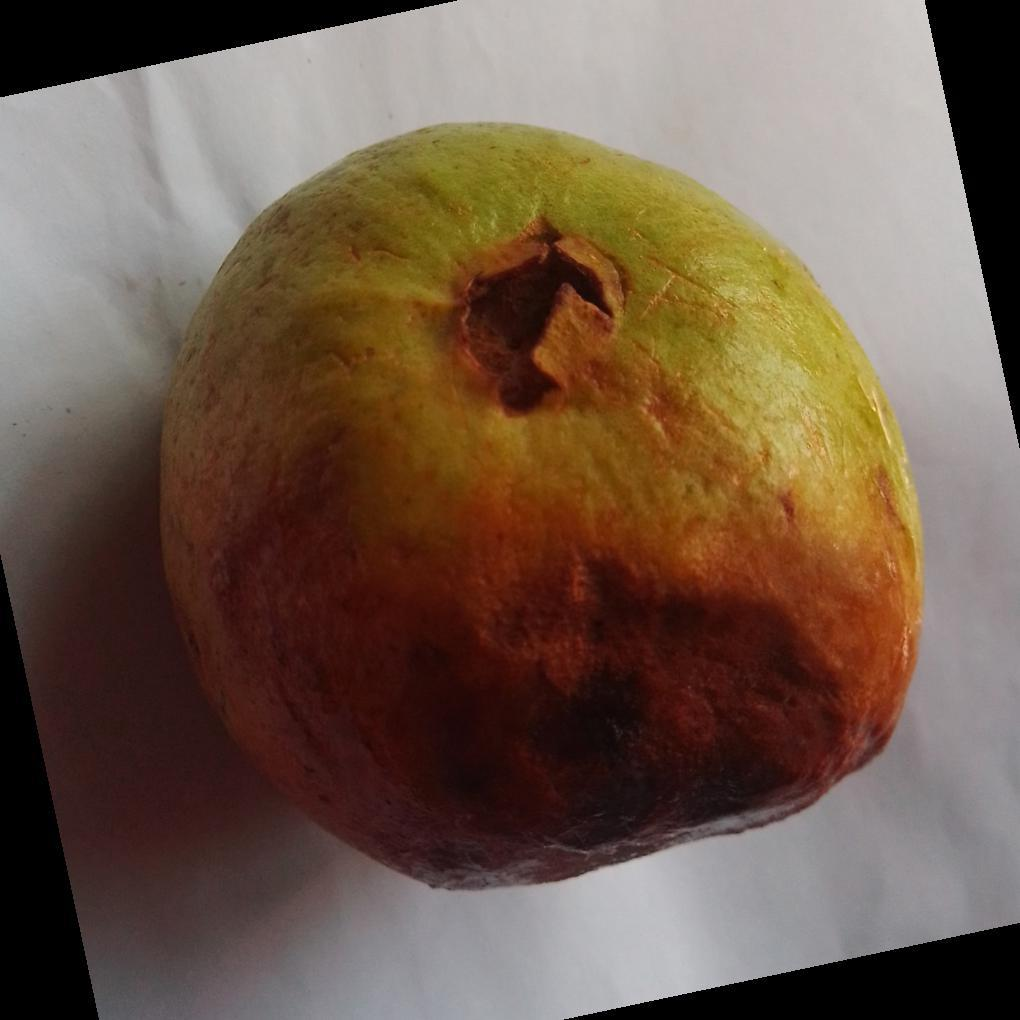FreshOrange: (155, 122, 926, 897)
